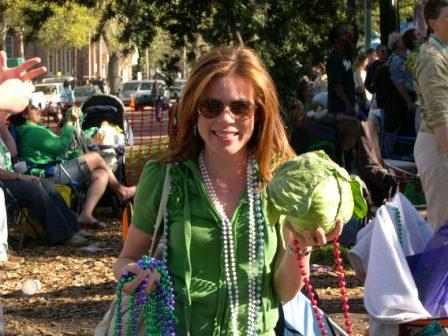cabbage: (262, 151, 367, 242)
